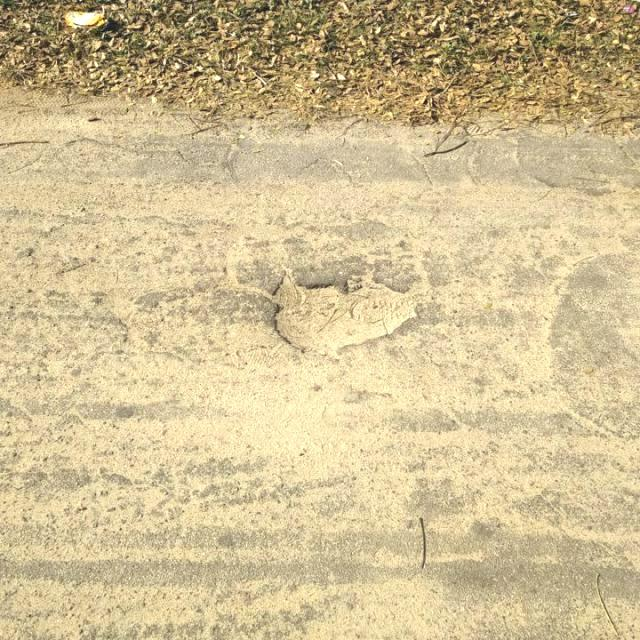Pothole: (266, 265, 423, 352)
